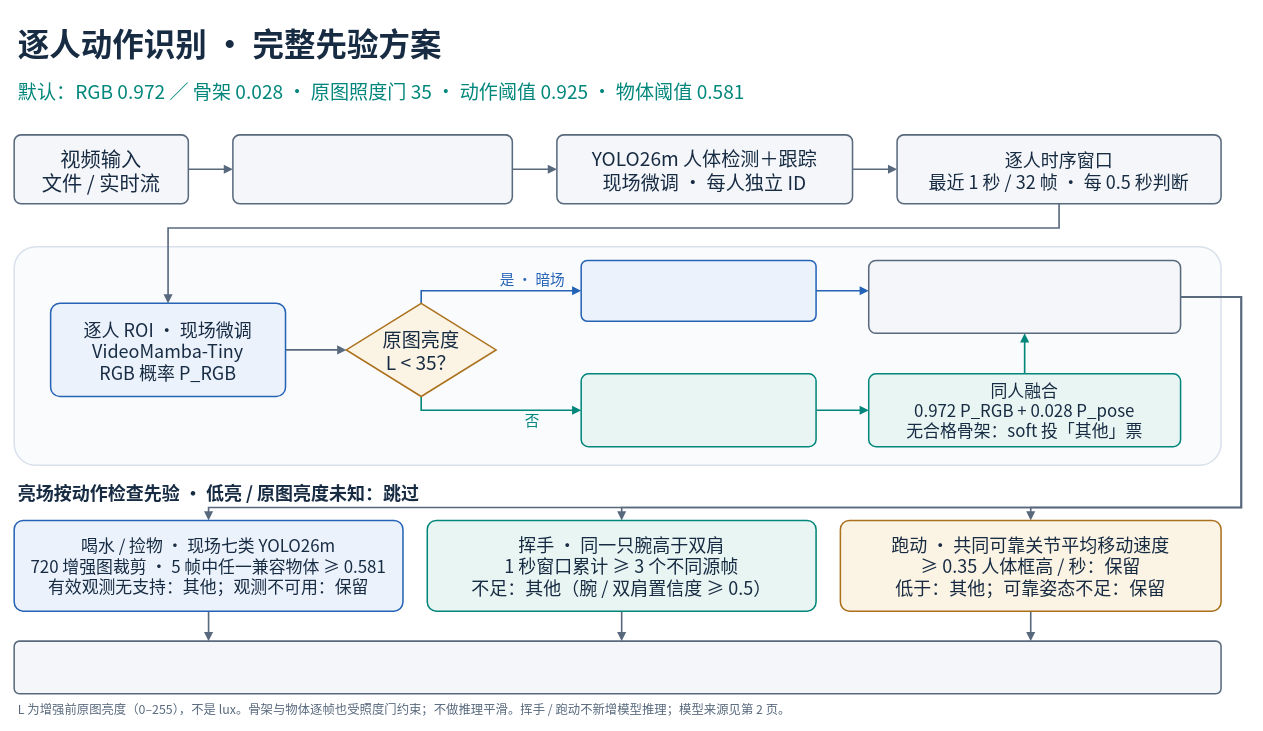
The diagram is 1263 pixels wide and 731 high, and some of its shapes have lost their labels. The centre of each missing label's shape, as x and y in pixels:
RTMO-s → 同人 ST-GCN 现场姿态 / 骨架动作微调: pixel 698 410
人体框＋骨架＋青色物体框（类别/置信度/人物 ID）→ 实时输出 非其他按人物 ID＋动作保存完整画面 · 前后各 2 秒 · 最长 15 秒 · 多人可重叠: pixel 617 667
保留增强前亮度 L → 增强 Retinexformer · 公开预训练 处理长边 720: pixel 372 169
只用本人的 RGB 跳过骨架与三类先验: pixel 698 290
最高类别动作分数 ≥ 0.925：保留 低于阈值：其他: pixel 1024 296
